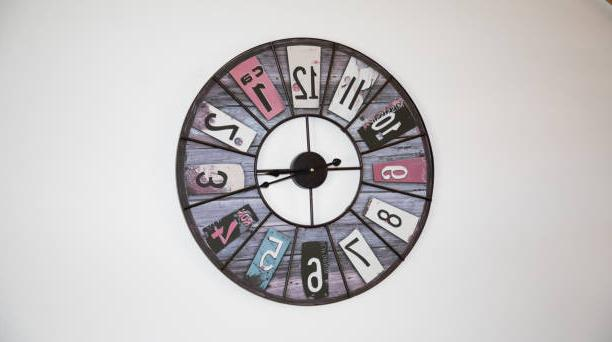clock: (169, 35, 436, 305)
